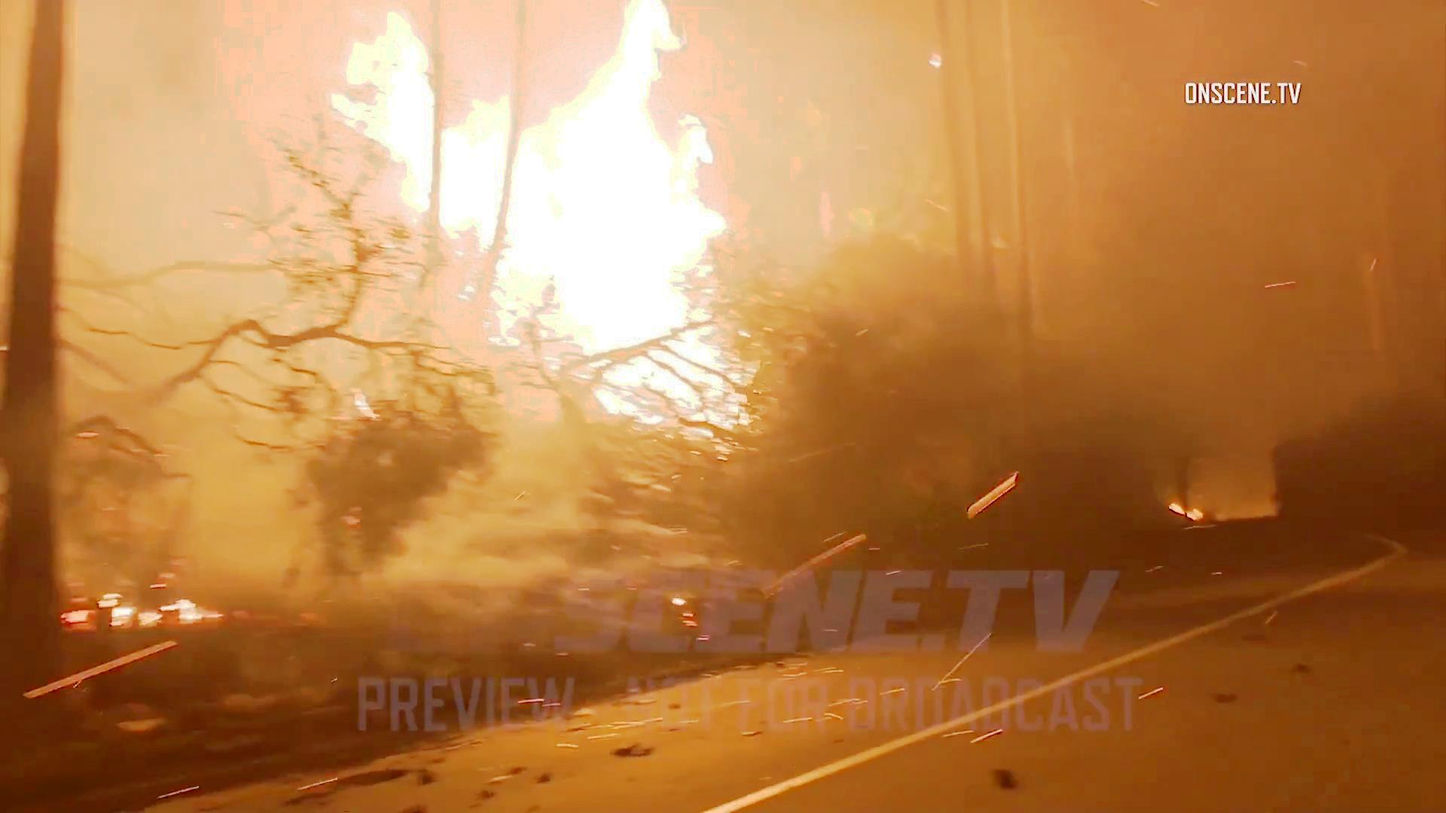fire: (334, 0, 740, 418)
